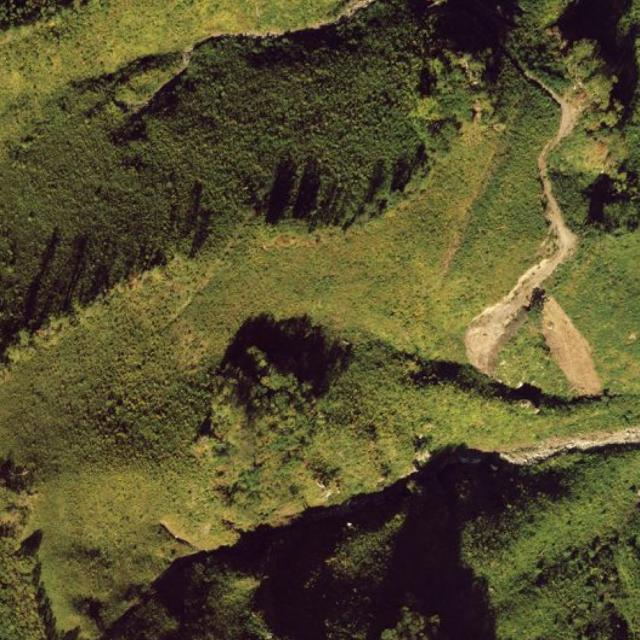landslide: (542, 297, 602, 395)
